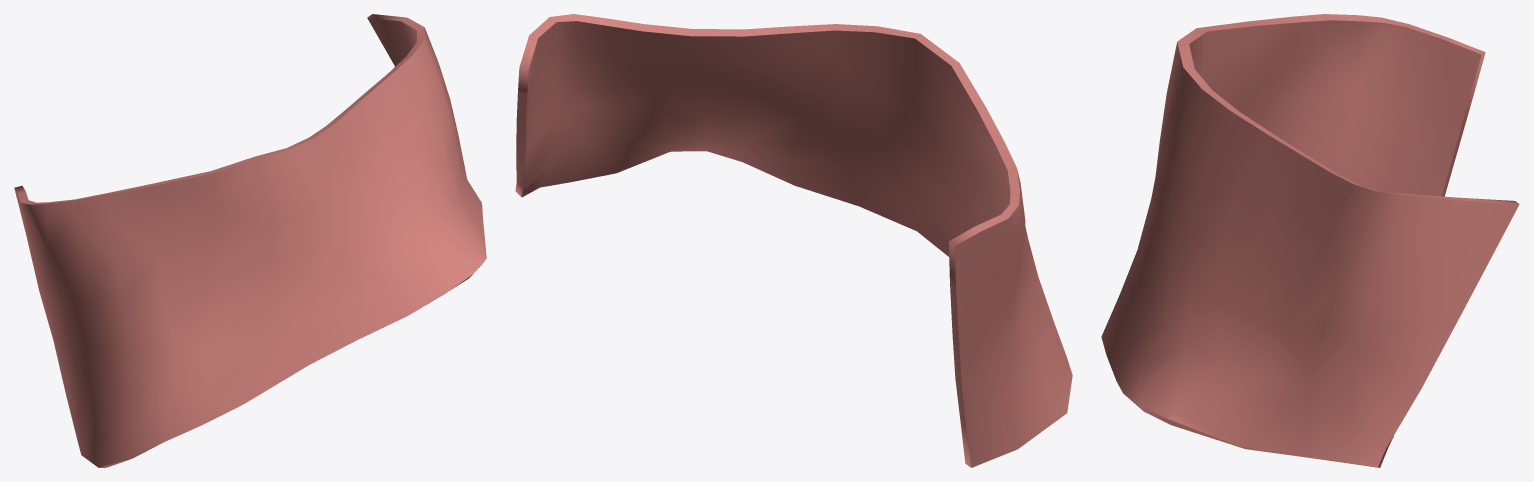
The picture shows the model from 3 angles, left to right: view 1: azimuth 30°, elevation 25°; view 2: azimuth 150°, elevation 25°; view 3: azimuth 270°, elevation 25°; orthographic projection. The views are drawn at different scales.
Visible parts, largest first — view 1: ZA_7c5e88a1ec9adffe; view 2: ZA_7c5e88a1ec9adffe; view 3: ZA_7c5e88a1ec9adffe.
Part boxes in pixels (x1,y1,x2,y2): ZA_7c5e88a1ec9adffe: (14,14,486,467); ZA_7c5e88a1ec9adffe: (515,14,1072,467); ZA_7c5e88a1ec9adffe: (1101,14,1519,467).
Bounding box in the file's own units: 0.0604 × 0.0411 × 0.0343.
